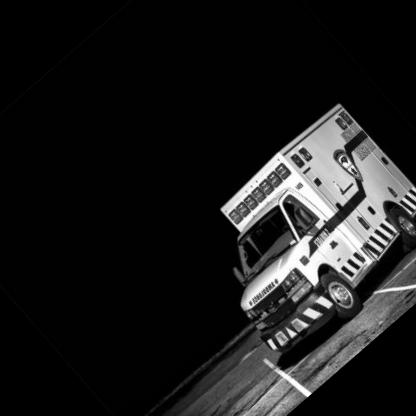ambulance: (151, 57, 416, 394)
